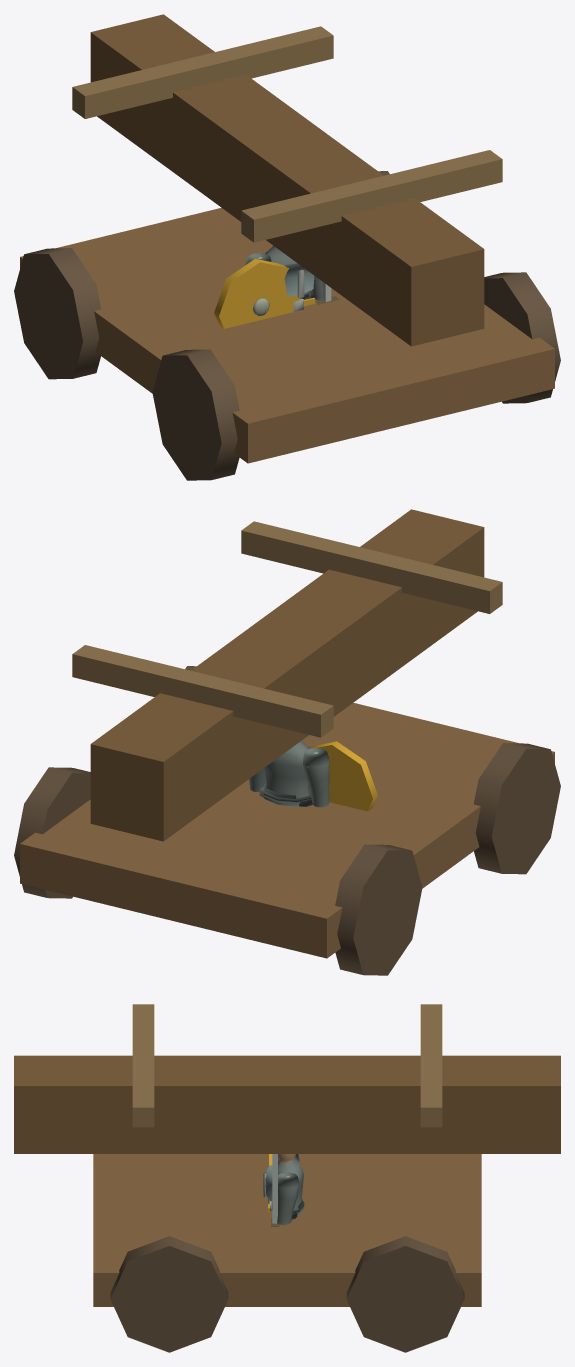
Rendered from battering_ram_team3.glb.
3 views of the same model, one above another, from view 1: azimuth 30°, elevation 25°; view 2: azimuth 150°, elevation 25°; view 3: azimuth 270°, elevation 25° (orthographic). The views are drawn at different scales.
Visible parts, largest first — view 1: part_11, part_16, part_13, part_12, part_18, part_17, part_15, part_3, part_0; view 2: part_11, part_16, part_12, part_13, part_17, part_18, part_14, part_3, part_0, part_2; view 3: part_16, part_11, part_14, part_15, part_17, part_18, part_5, part_0.
Part boxes in pixels (x1,y1,x2,y2): part_11: (20, 208, 554, 463); part_16: (90, 14, 484, 346); part_13: (152, 349, 239, 480); part_12: (14, 248, 101, 379); part_18: (241, 150, 502, 242); part_17: (72, 26, 333, 118); part_15: (484, 272, 560, 403); part_3: (214, 258, 300, 328); part_0: (265, 246, 314, 311); part_11: (20, 703, 554, 958); part_16: (90, 509, 484, 841); part_12: (335, 844, 422, 975); part_13: (473, 743, 560, 874); part_17: (72, 645, 333, 737); part_18: (241, 521, 502, 613); part_14: (14, 767, 90, 898); part_3: (309, 741, 377, 811); part_0: (263, 741, 310, 806); part_2: (303, 748, 329, 807); part_16: (14, 1055, 560, 1153); part_11: (93, 1154, 481, 1306); part_14: (346, 1236, 464, 1352); part_15: (110, 1236, 228, 1352); part_17: (420, 1004, 442, 1127); part_18: (132, 1004, 154, 1127); part_5: (277, 1172, 299, 1224); part_0: (263, 1157, 304, 1215).
Size of the model in its own units: 2.32 by 1.74 by 3.8.
